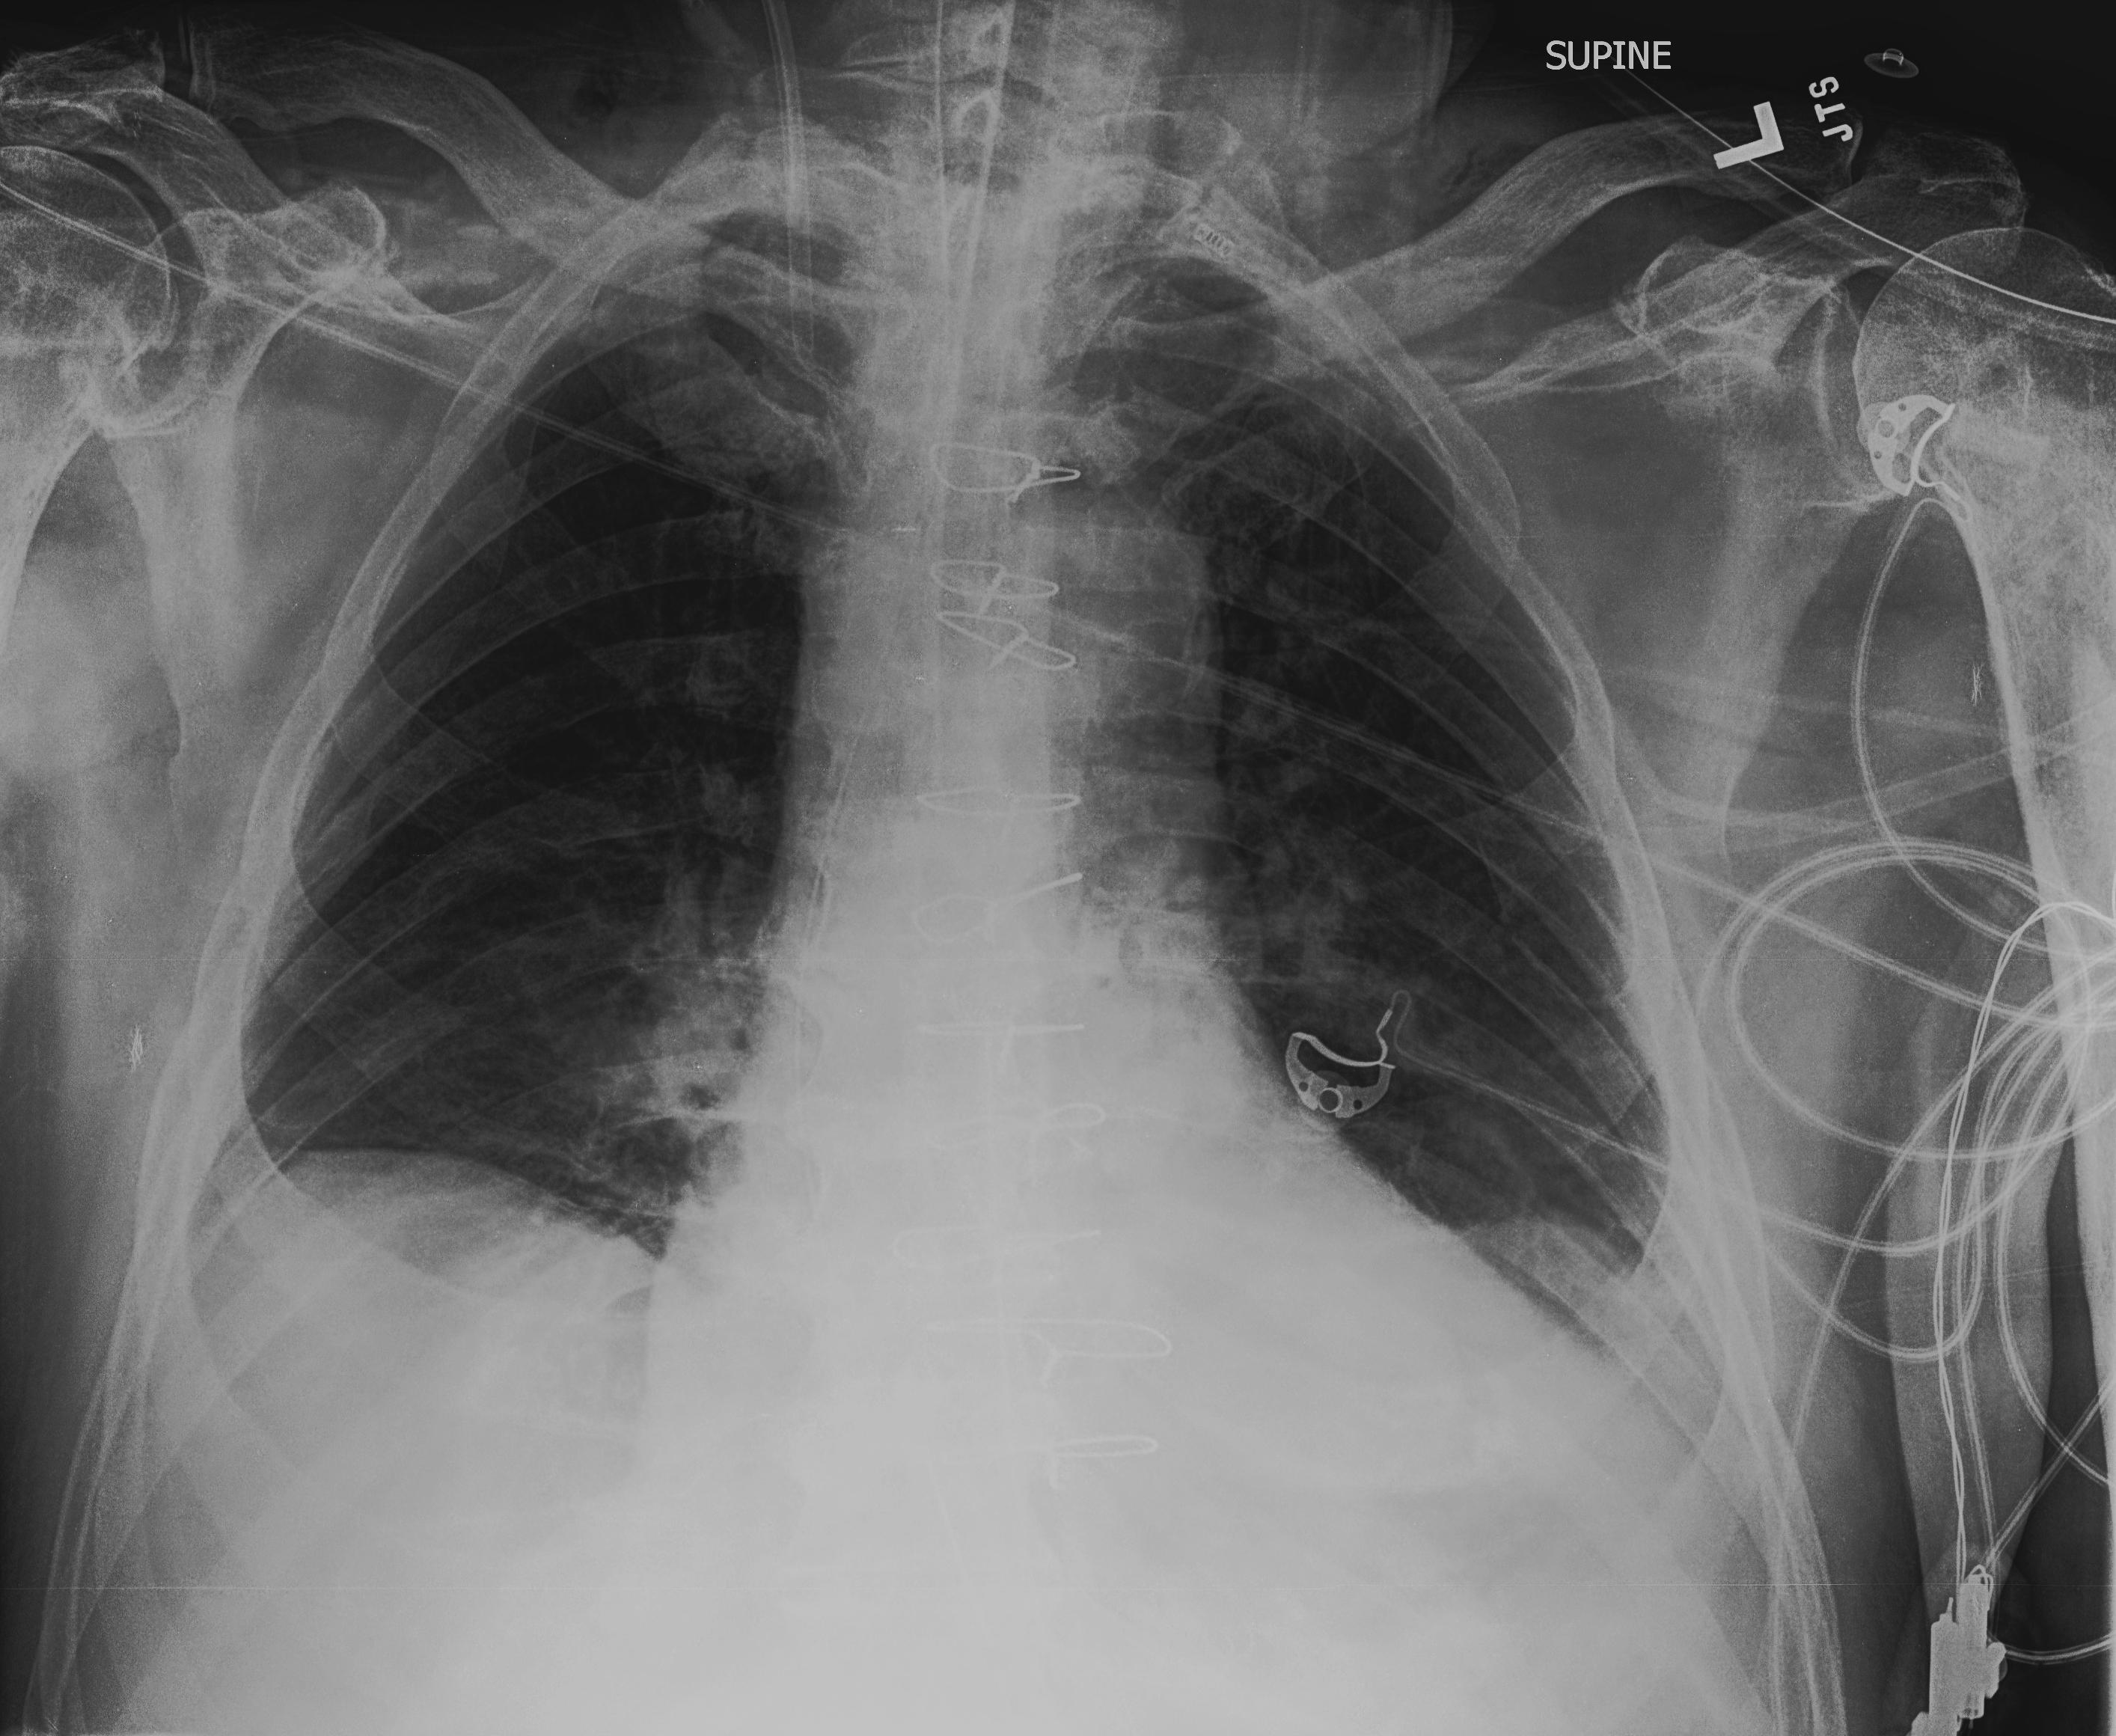Pleural Effusion: (1343, 1225, 1833, 1624), (90, 1146, 494, 1499)
